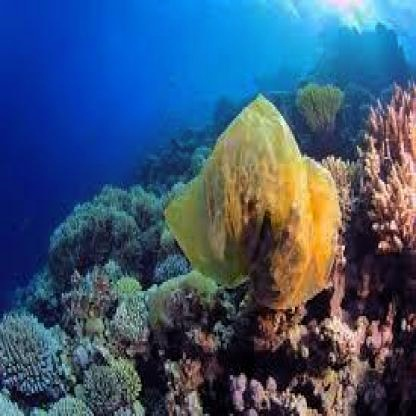pbag: (162, 91, 340, 316)
